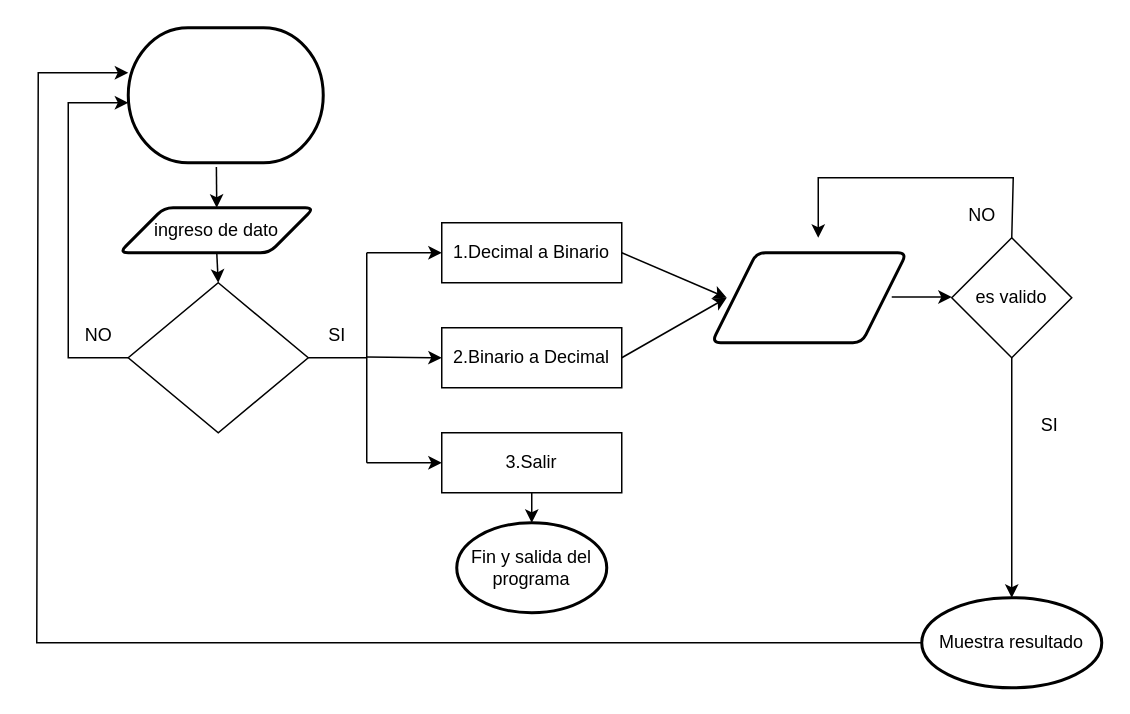
Some shapes in this 1130 by 714 pixel diagram are drawn without their labels. Here are the shapes that lost their labels. From the top down, the centre of each, then its label:
[225,95]: INICIO DE PROGRAMA Se muestra swich de opciones
[809,297]: Solicita dato de acuerdo a origen
[217,357]: verifica si es opcion valida
